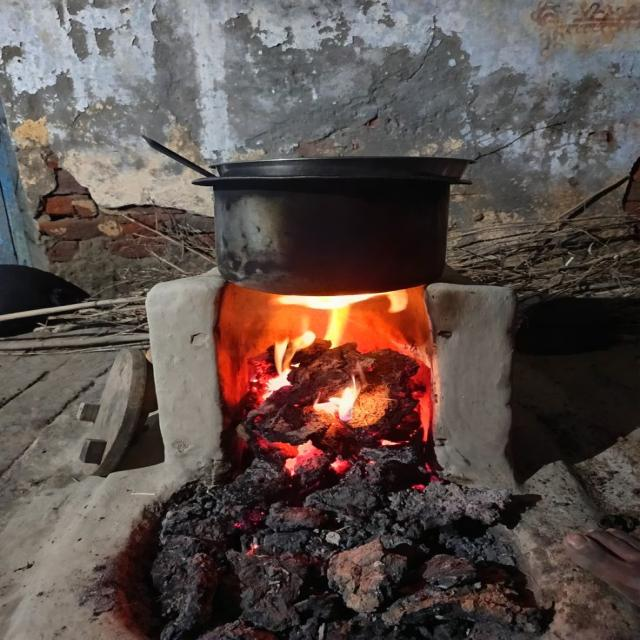fire: (262, 331, 315, 401), (277, 289, 408, 313), (313, 374, 361, 421)
